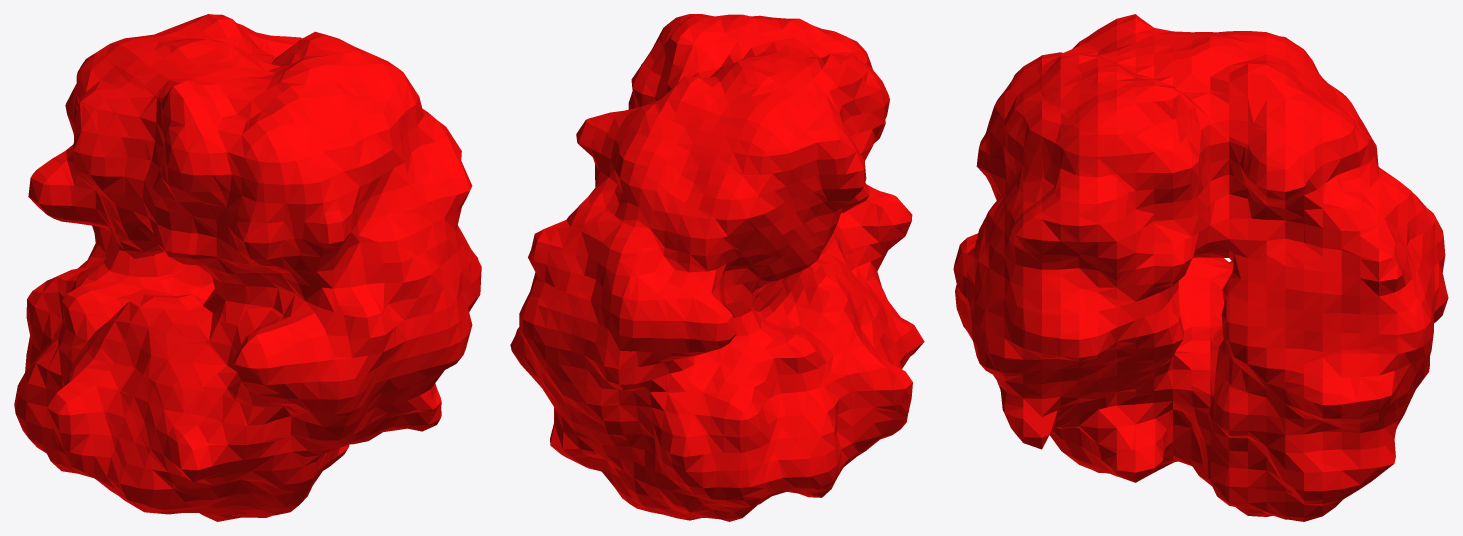
Rendered from ansA_coarse.dae.
The picture shows the model from 3 angles, left to right: view 1: azimuth 30°, elevation 25°; view 2: azimuth 150°, elevation 25°; view 3: azimuth 270°, elevation 25°; orthographic projection. The views are drawn at different scales.
Visible parts, largest first — view 1: ansA; view 2: ansA; view 3: ansA.
Boxes of the visible parts, x1,y1,x2,y2 form: ansA: [14, 14, 481, 521]; ansA: [510, 14, 924, 521]; ansA: [953, 14, 1448, 521].
Size of the model in its own units: 75.91 by 94.6 by 92.42.
